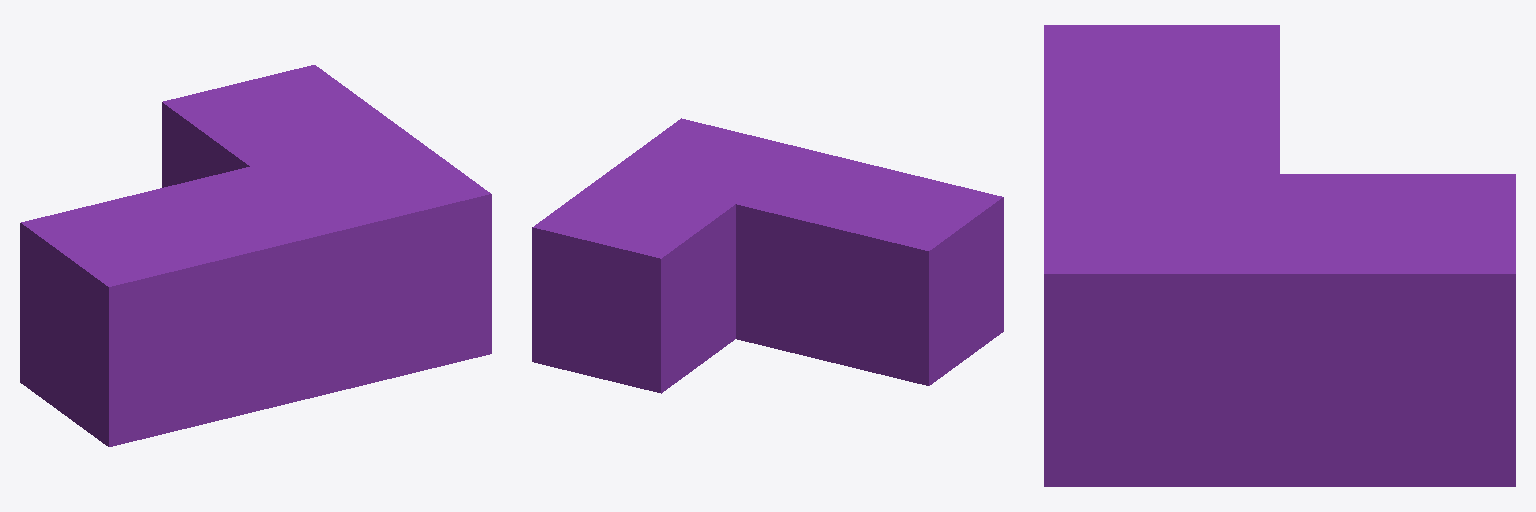
URDF robot description (lblock_purple):
<?xml version="1.0"?>
<robot name="lblock_purple">
  <link name="arm_a">
    <inertial>
      <origin xyz="0 0 0.020000" rpy="0 0 0"/>
      <mass value="0.06"/>
      <inertia ixx="0.00001600" ixy="0" ixz="0" iyy="0.00005800" iyz="0" izz="0.00005800"/>
    </inertial>
    <visual>
      <origin xyz="0 0 0.020000" rpy="0 0 0"/>
      <geometry><box size="0.1 0.04 0.04"/></geometry>
      <material name="lblock_purple_mat"><color rgba="0.6 0.3 0.75 1.0"/></material>
    </visual>
    <collision>
      <origin xyz="0 0 0.020000" rpy="0 0 0"/>
      <geometry><box size="0.1 0.04 0.04"/></geometry>
    </collision>
  </link>
  <link name="arm_b">
    <inertial>
      <origin xyz="0 0 0.020000" rpy="0 0 0"/>
      <mass value="0.04000000000000001"/>
      <inertia ixx="0.00001067" ixy="0" ixz="0" iyy="0.00001067" iyz="0" izz="0.00001067"/>
    </inertial>
    <visual>
      <origin xyz="0 0 0.020000" rpy="0 0 0"/>
      <geometry><box size="0.04 0.04 0.04"/></geometry>
      <material name="lblock_purple_mat"><color rgba="0.6 0.3 0.75 1.0"/></material>
    </visual>
    <collision>
      <origin xyz="0 0 0.020000" rpy="0 0 0"/>
      <geometry><box size="0.04 0.04 0.04"/></geometry>
    </collision>
  </link>
  <joint name="ab_joint" type="fixed">
    <parent link="arm_a"/>
    <child link="arm_b"/>
    <origin xyz="0.03 0.04 0.0" rpy="0 0 0"/>
  </joint>
</robot>

--- Render facts (derived) ---
Views: 3 orthographic renders of the robot side by side, from view 1: azimuth 30°, elevation 25°; view 2: azimuth 150°, elevation 25°; view 3: azimuth 270°, elevation 25°.
Model lblock_purple with 2 links and 1 joints (1 fixed), rooted at arm_a, posed all joints at 0.
Visible links, largest first — view 1: arm_a, arm_b; view 2: arm_a, arm_b; view 3: arm_a, arm_b.
Boxes of the visible links, bbox=[...] form: arm_a: bbox=[20, 129, 491, 446]; arm_b: bbox=[162, 65, 401, 187]; arm_a: bbox=[607, 118, 1003, 385]; arm_b: bbox=[532, 173, 735, 393]; arm_a: bbox=[1044, 25, 1279, 486]; arm_b: bbox=[1280, 174, 1515, 486].
Size in the robot's own frame: 0.1 by 0.08 by 0.04 metres.
Geometry: primitives only (box / cylinder / sphere), no mesh files.
